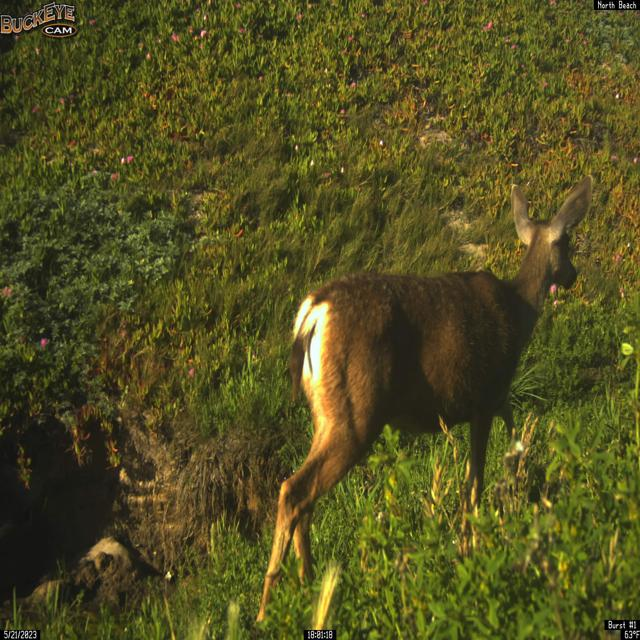deer: (252, 174, 593, 634)
